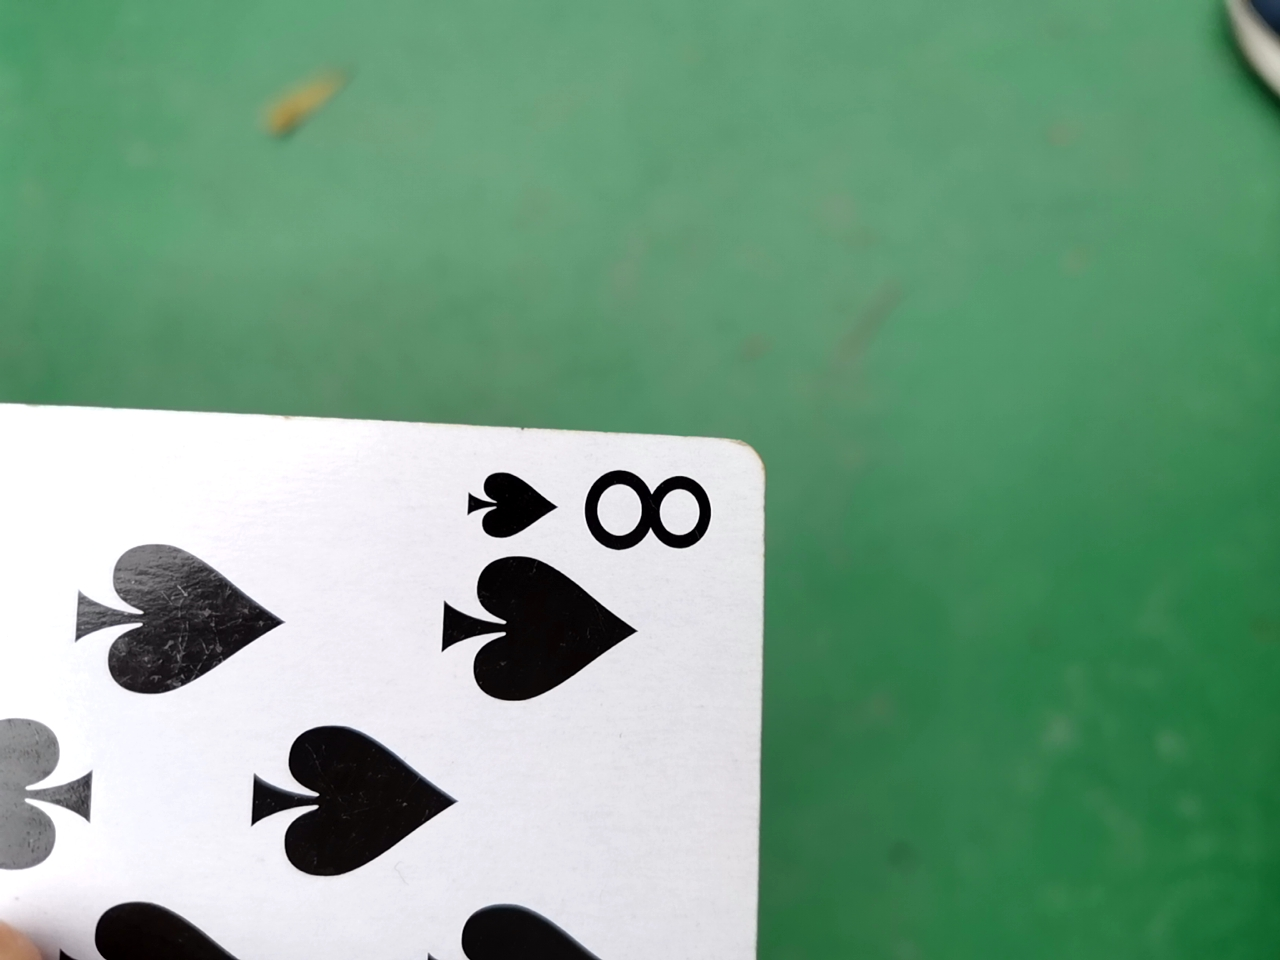ht 8: (7, 384, 789, 952)
